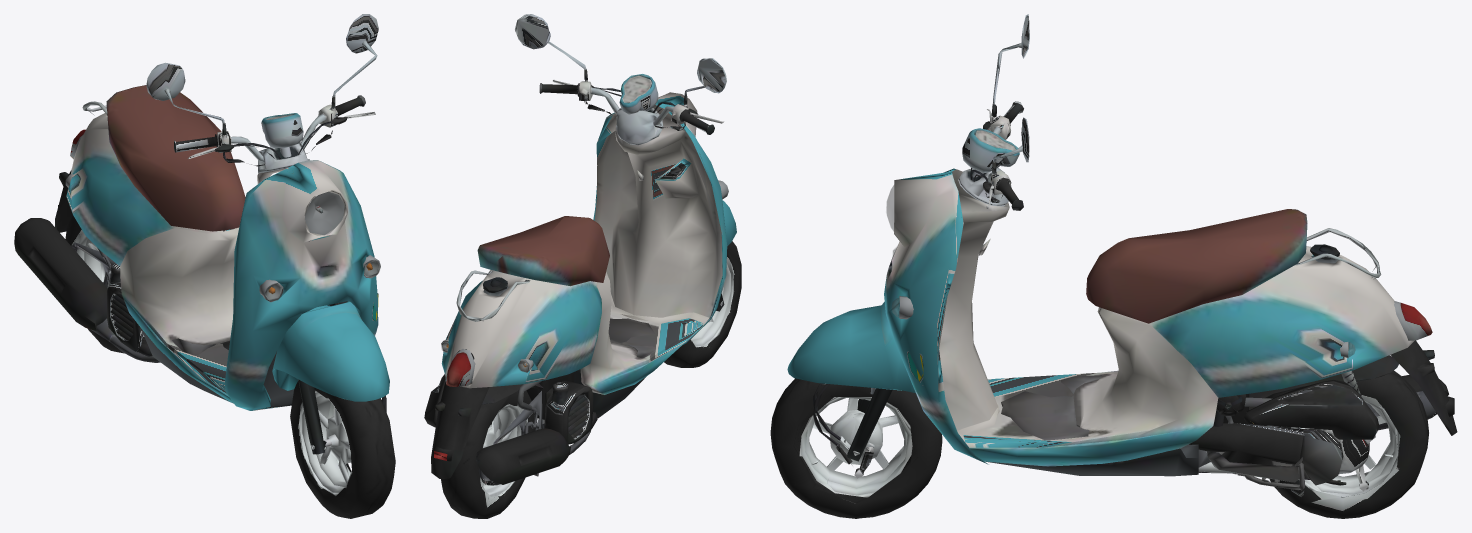
File: k1_vino_lo.glb
The picture shows the model from 3 angles, left to right: view 1: azimuth 30°, elevation 25°; view 2: azimuth 150°, elevation 25°; view 3: azimuth 270°, elevation 25°; orthographic projection. The views are drawn at different scales.
Visible parts, largest first — view 1: Plane003_Main Body_0, Sphere001_Tire_0, Sphere001_Main Body_0, Plane003_SmallParts_0, Sphere001_SmallParts_0, Plane003_Lamp & Glass_0, Plane003_Glass_0, Plane003_Tire_0; view 2: Plane003_Main Body_0, Plane003_SmallParts_0, Sphere001_SmallParts_0, Plane003_Tire_0, Sphere001_Tire_0, Plane003_Lamp & Glass_0, Sphere001_Glass_0, Sphere001_Main Body_0; view 3: Plane003_Main Body_0, Plane003_SmallParts_0, Sphere001_Tire_0, Plane003_Tire_0, Sphere001_Main Body_0, Sphere001_SmallParts_0, Plane003_Lamp & Glass_0.
Part boxes in pixels (left/top/right/bottom): Plane003_Main Body_0: left=66, top=85, right=378, bottom=410; Sphere001_Tire_0: left=290, top=381, right=395, bottom=518; Sphere001_Main Body_0: left=272, top=301, right=389, bottom=454; Plane003_SmallParts_0: left=14, top=101, right=160, bottom=362; Sphere001_SmallParts_0: left=146, top=14, right=386, bottom=449; Plane003_Lamp & Glass_0: left=65, top=129, right=380, bottom=302; Plane003_Glass_0: left=66, top=177, right=380, bottom=300; Plane003_Tire_0: left=65, top=215, right=124, bottom=353; Plane003_Main Body_0: left=441, top=92, right=727, bottom=418; Plane003_SmallParts_0: left=424, top=270, right=597, bottom=485; Sphere001_SmallParts_0: left=515, top=14, right=726, bottom=305; Plane003_Tire_0: left=441, top=390, right=535, bottom=518; Sphere001_Tire_0: left=664, top=241, right=741, bottom=367; Plane003_Lamp & Glass_0: left=434, top=180, right=728, bottom=460; Sphere001_Glass_0: left=622, top=75, right=650, bottom=102; Sphere001_Main Body_0: left=716, top=200, right=736, bottom=311; Plane003_Main Body_0: left=884, top=168, right=1414, bottom=476; Plane003_SmallParts_0: left=1176, top=228, right=1457, bottom=496; Sphere001_Tire_0: left=770, top=378, right=942, bottom=518; Plane003_Tire_0: left=1259, top=370, right=1428, bottom=518; Sphere001_Main Body_0: left=787, top=302, right=915, bottom=461; Sphere001_SmallParts_0: left=813, top=14, right=1029, bottom=478; Plane003_Lamp & Glass_0: left=899, top=296, right=1432, bottom=358.
Size of the model in its own units: 0.6794 by 1.16 by 1.61.
Materials: 6 (6 with a texture image).
